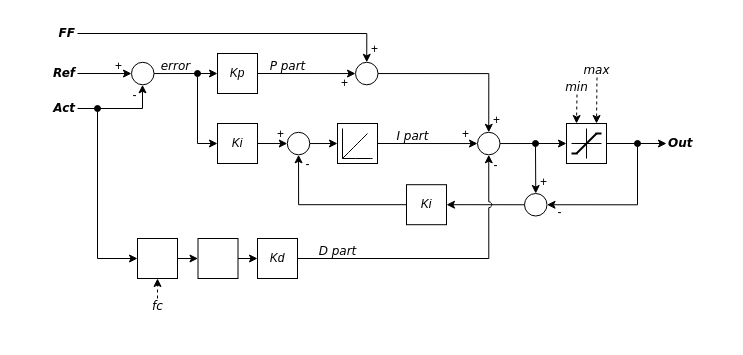
Some shapes in this 743 by 355 pixel diagram are drawn without their labels. The centre of each missing label's shape, as x and y in pixels:
"d/dt" goes at (217,258).
"LPF" goes at (157,258).
